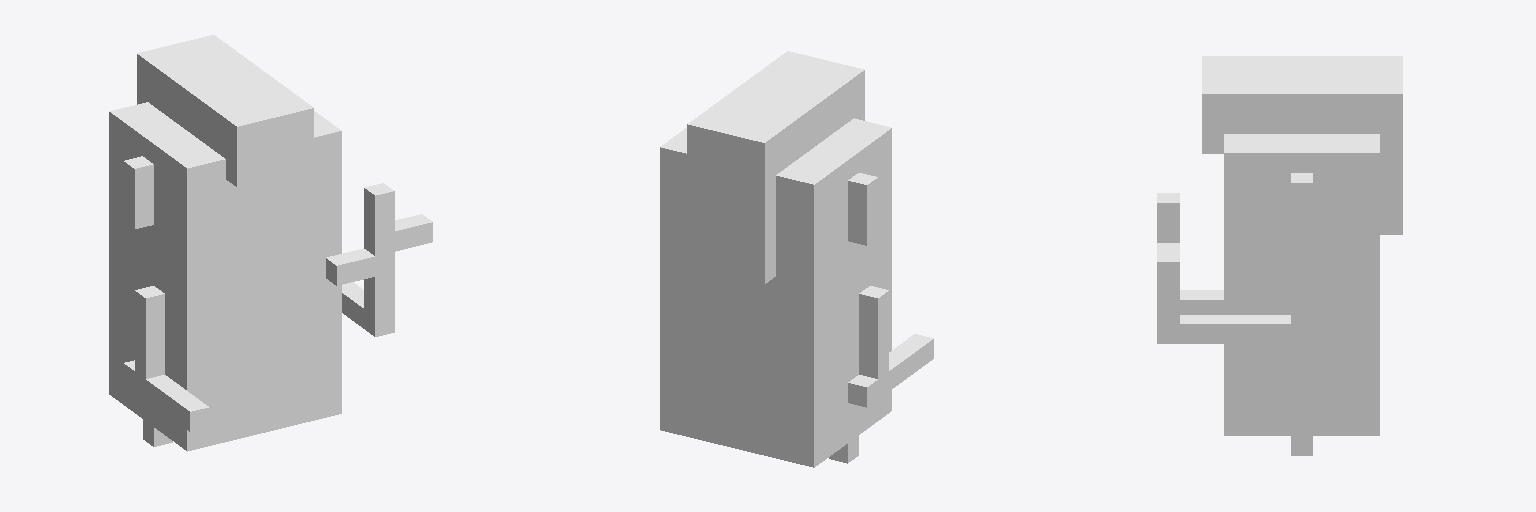
File: GrassMan.obj
3 views of the same model, side by side, from view 1: azimuth 30°, elevation 25°; view 2: azimuth 150°, elevation 25°; view 3: azimuth 270°, elevation 25° (orthographic).
Bounding box in the file's own units: 12 × 17 × 11.